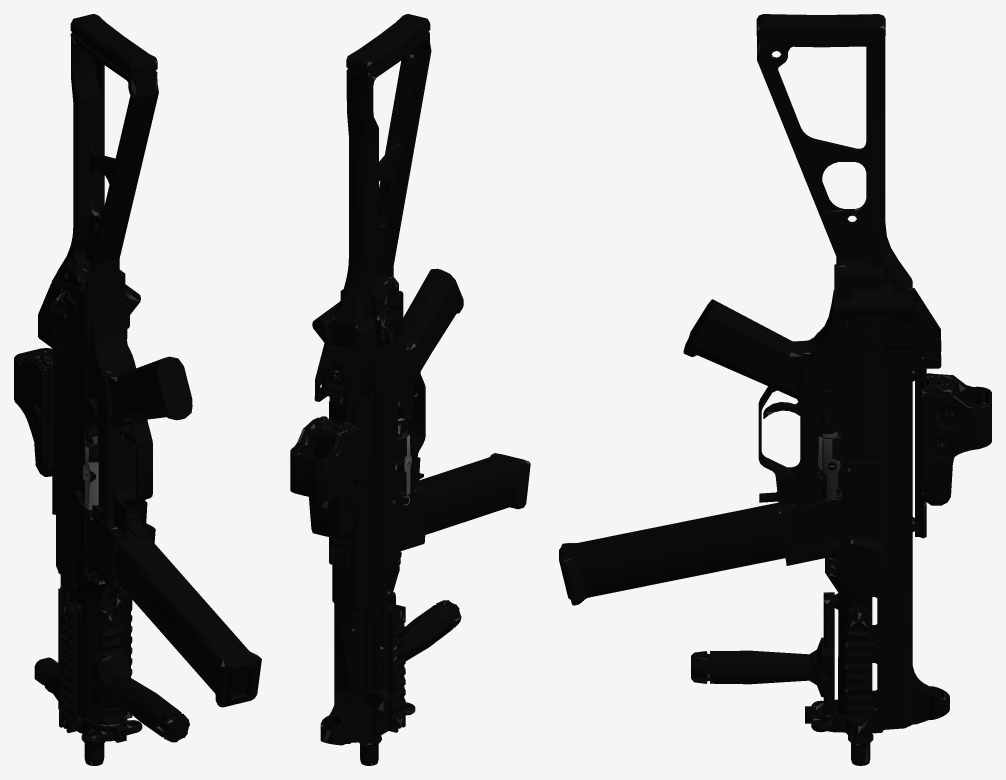
The model's file is UMP45__Laser_Rifle.fbx.
The picture shows the model from 3 angles, left to right: view 1: azimuth 30°, elevation 25°; view 2: azimuth 150°, elevation 25°; view 3: azimuth 270°, elevation 25°; orthographic projection. The views are drawn at different scales.
Parts seen in each view (by area): view 1: asset_UMP45.001; view 2: asset_UMP45.001; view 3: asset_UMP45.001.
Boxes of the visible parts, x1,y1,x2,y2 form: asset_UMP45.001: (14, 14, 261, 765); asset_UMP45.001: (290, 14, 530, 765); asset_UMP45.001: (559, 14, 991, 765).
Bounding box in the file's own units: 0.0422 × 0.414 × 0.2184.
